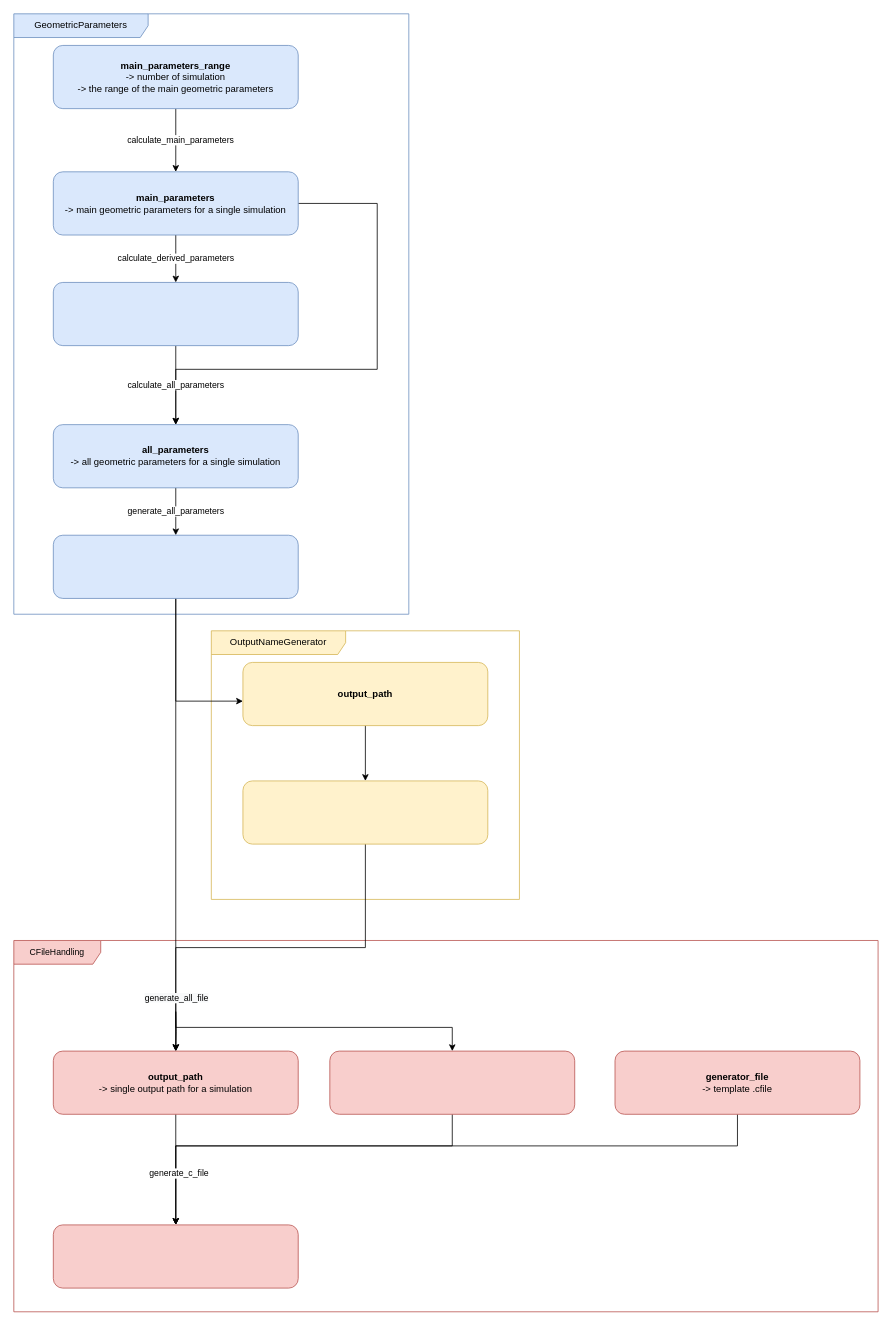
The diagram is 892 pixels wide and 1326 high, and some of its shapes have lost their labels. The centre of each missing label's shape, as x and y in pixels:
"all_parameters_container -> all geometric parameters for every simulation" goes at (175,566).
"derived_parameters -> derived geometric parameters for a single simulation" goes at (175,314).
"output_file -> new .cfile" goes at (175,1256).
"output_path_generator -> every path for every simulation" goes at (365,812).
"parameters -> geometric parameters for a simulation" goes at (452,1082).
